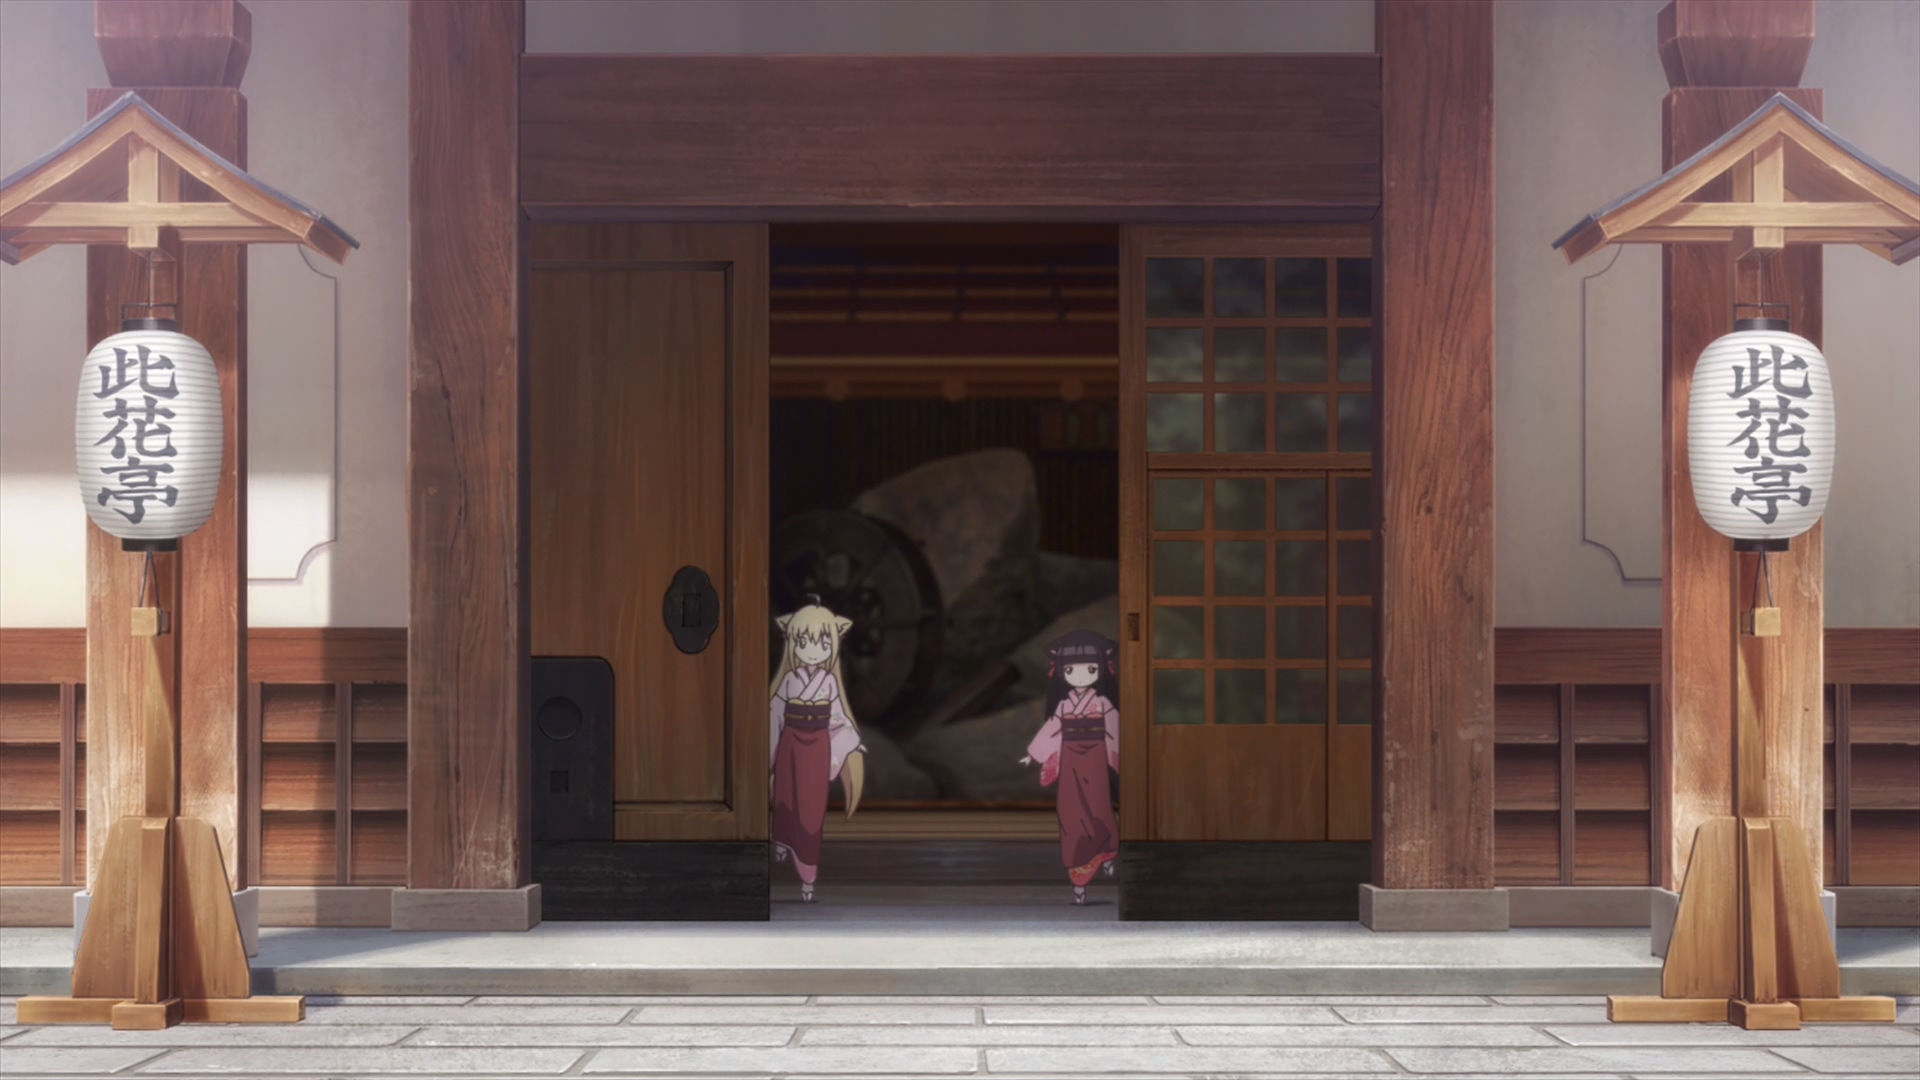柚: (770, 595, 865, 905)
樱: (1019, 632, 1118, 905)
